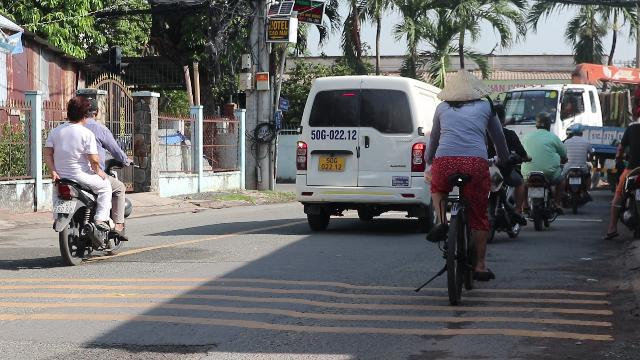helmet: (534, 111, 552, 129)
motorcyclist: (43, 95, 133, 263), (520, 110, 564, 229)
nohelmet: (64, 97, 88, 124), (85, 98, 99, 120), (54, 200, 74, 212), (528, 187, 544, 197)
